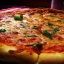basil: (43, 27, 59, 39), (27, 40, 44, 50), (12, 14, 26, 20), (31, 23, 38, 30)
pizza: (1, 9, 64, 64)
